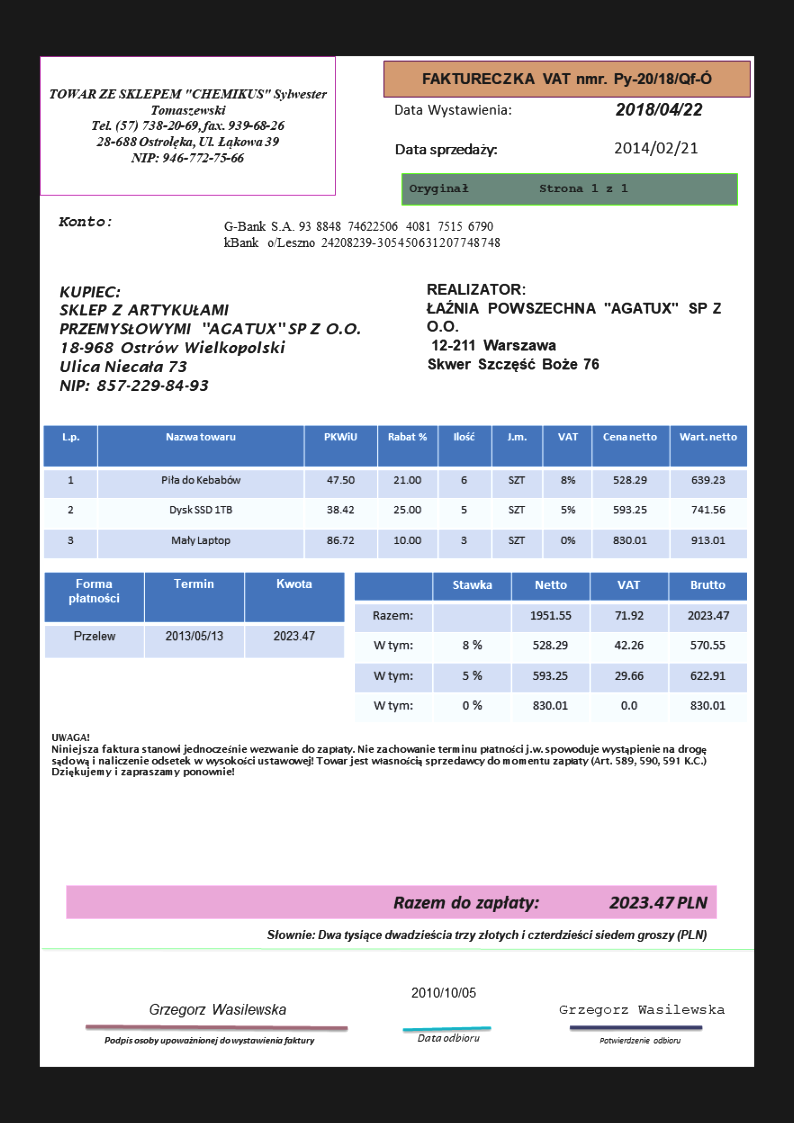Table: (42, 424, 749, 559), (353, 570, 749, 723), (43, 572, 345, 659)
TextBox: (55, 282, 365, 395), (49, 728, 709, 781), (424, 279, 725, 375), (46, 83, 329, 168), (219, 216, 502, 253), (264, 924, 713, 945), (388, 888, 711, 916), (417, 68, 713, 87), (408, 179, 629, 197), (100, 1031, 318, 1048), (146, 997, 289, 1019), (554, 1000, 726, 1018), (392, 100, 513, 119), (392, 139, 500, 160), (610, 98, 705, 121), (611, 137, 701, 160), (596, 1032, 684, 1049), (407, 982, 478, 1002), (55, 212, 113, 230), (415, 1029, 482, 1043)
